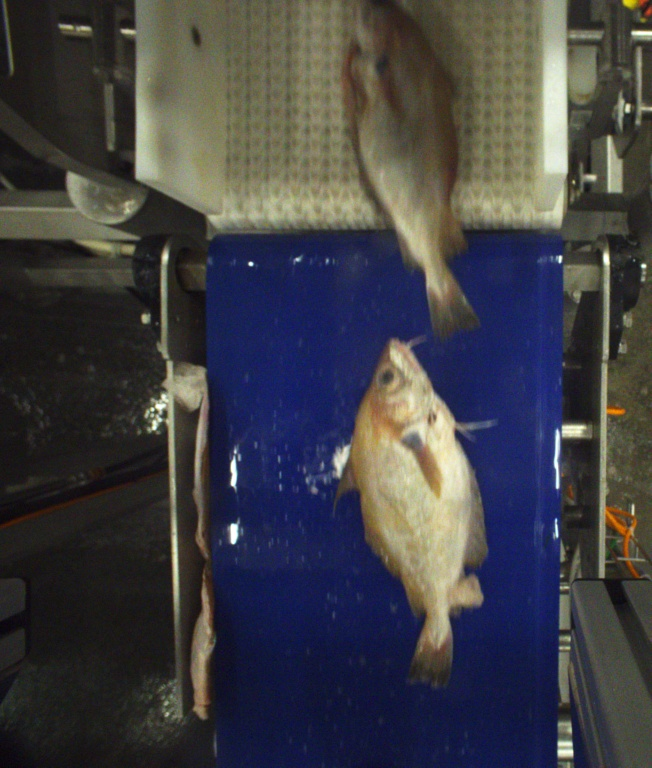BIB: (329, 338, 495, 684)
